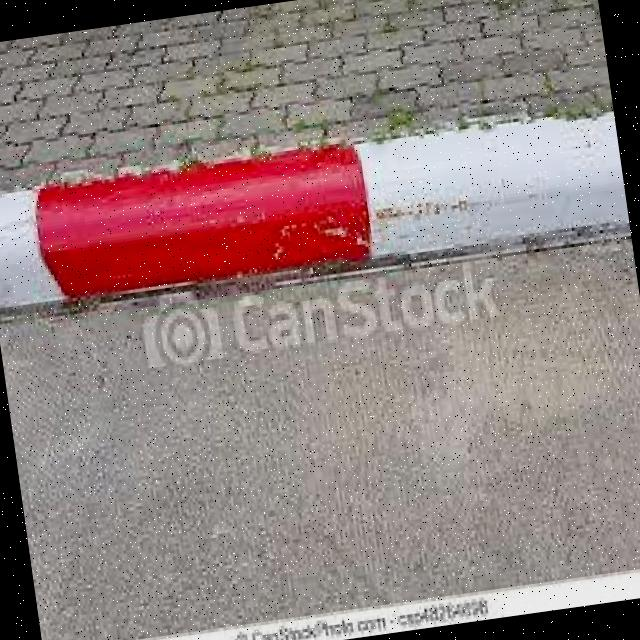curb: (1, 109, 631, 319)
